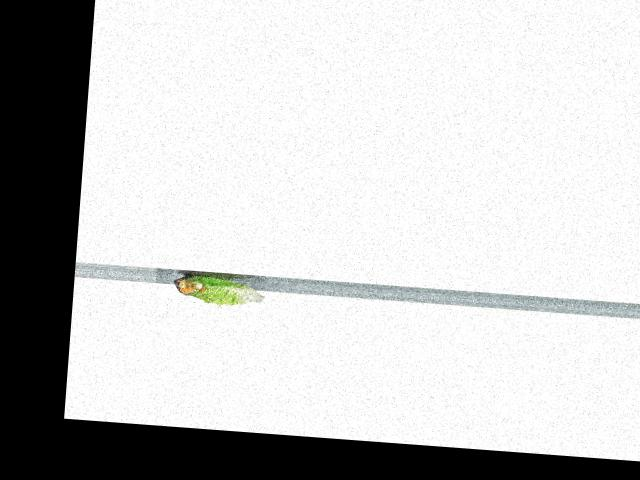lettuce: (168, 269, 267, 311)
